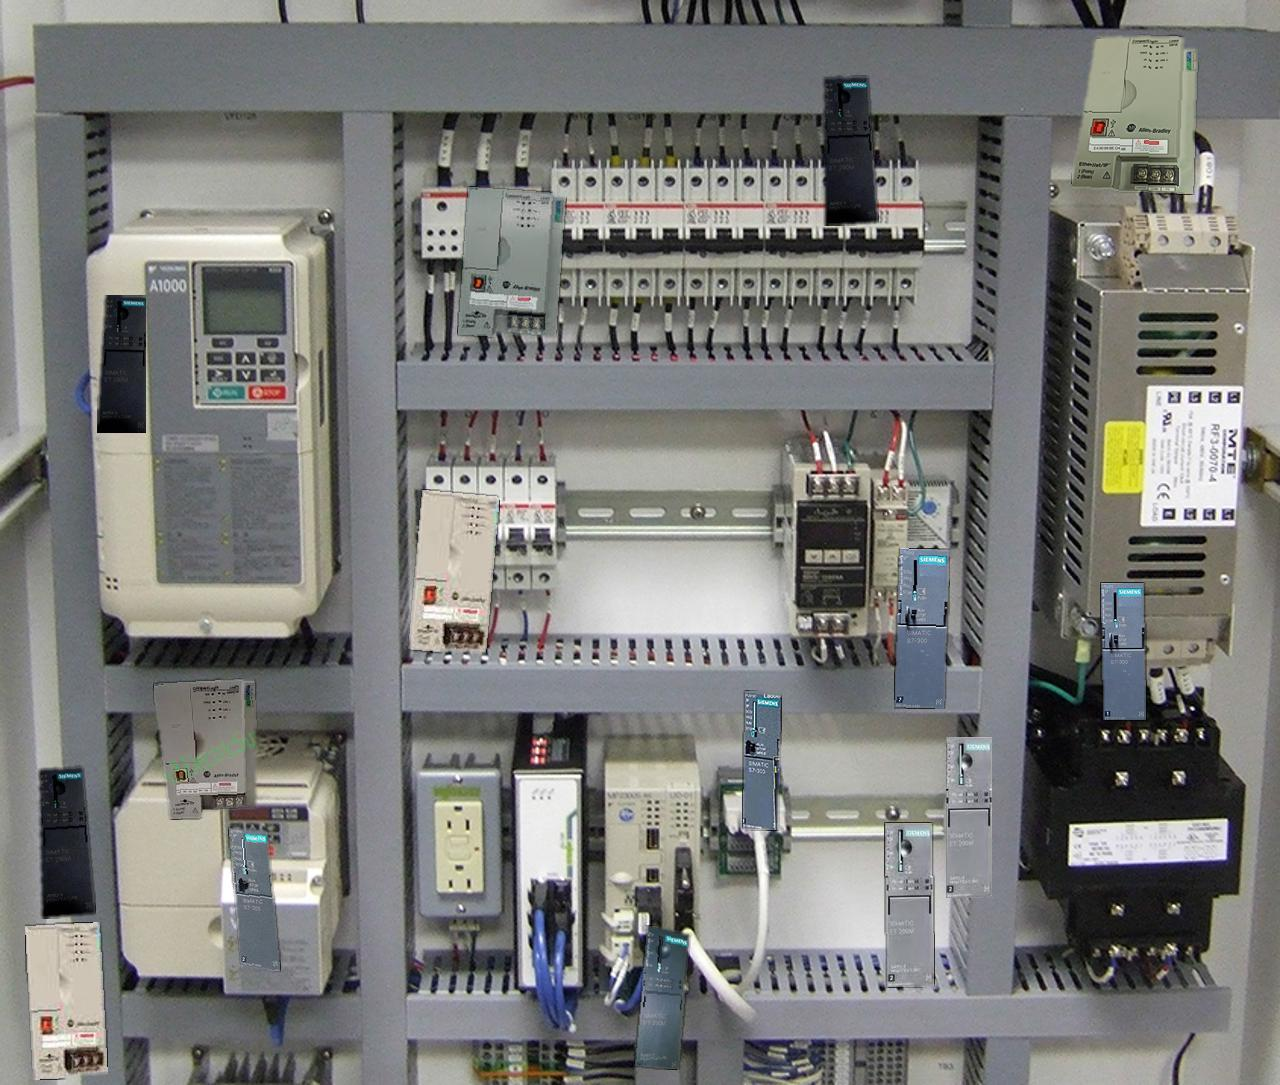AllenBradley: (1071, 36, 1196, 193), (458, 187, 565, 336), (410, 490, 500, 652), (154, 680, 256, 818), (25, 922, 107, 1079)
Siemens: (894, 548, 948, 708), (229, 828, 279, 970), (1101, 583, 1145, 719), (743, 691, 780, 829)
